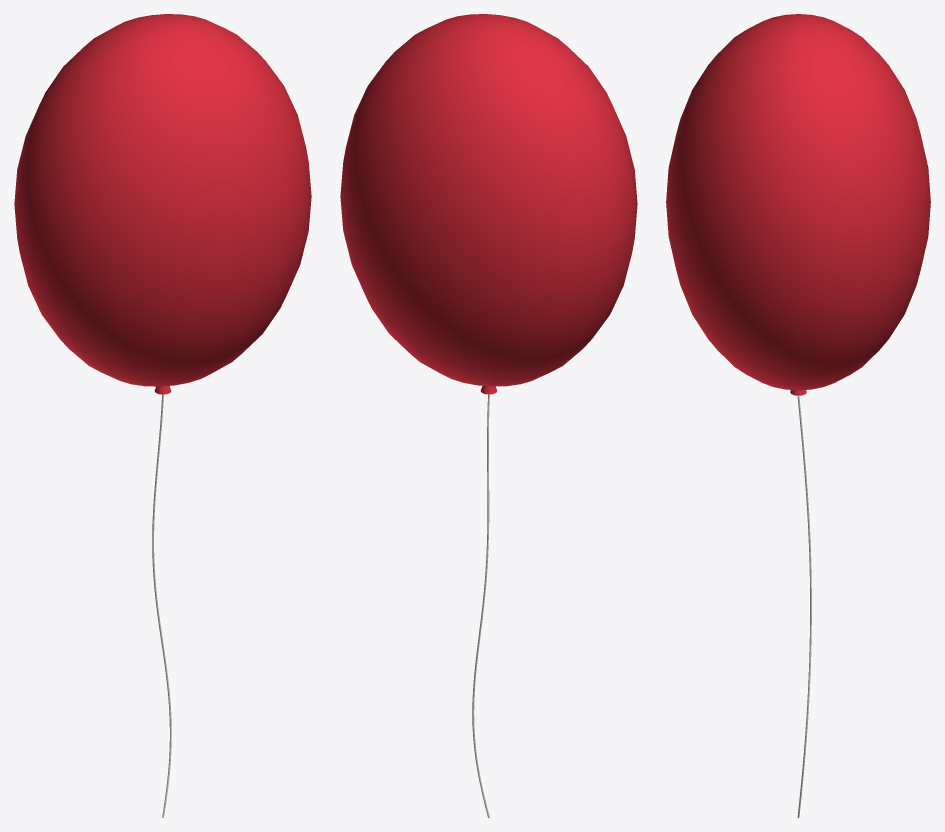
File: balloon_round_red.glb
3 renders of one model, left to right at view 1: azimuth 30°, elevation 25°; view 2: azimuth 150°, elevation 25°; view 3: azimuth 270°, elevation 25°, orthographic.
Parts seen in each view (by area): view 1: Round balloon, Trailing string; view 2: Round balloon, Trailing string; view 3: Round balloon, Trailing string.
Part boxes in pixels (x1=…): Round balloon: x1=14, y1=14, x2=311, y2=386; Trailing string: x1=152, y1=394, x2=171, y2=817; Round balloon: x1=340, y1=14, x2=637, y2=386; Trailing string: x1=472, y1=394, x2=489, y2=817; Round balloon: x1=666, y1=14, x2=930, y2=390; Trailing string: x1=797, y1=395, x2=811, y2=817.
Size of the model in its own units: 0.44 by 1.25 by 0.38.
